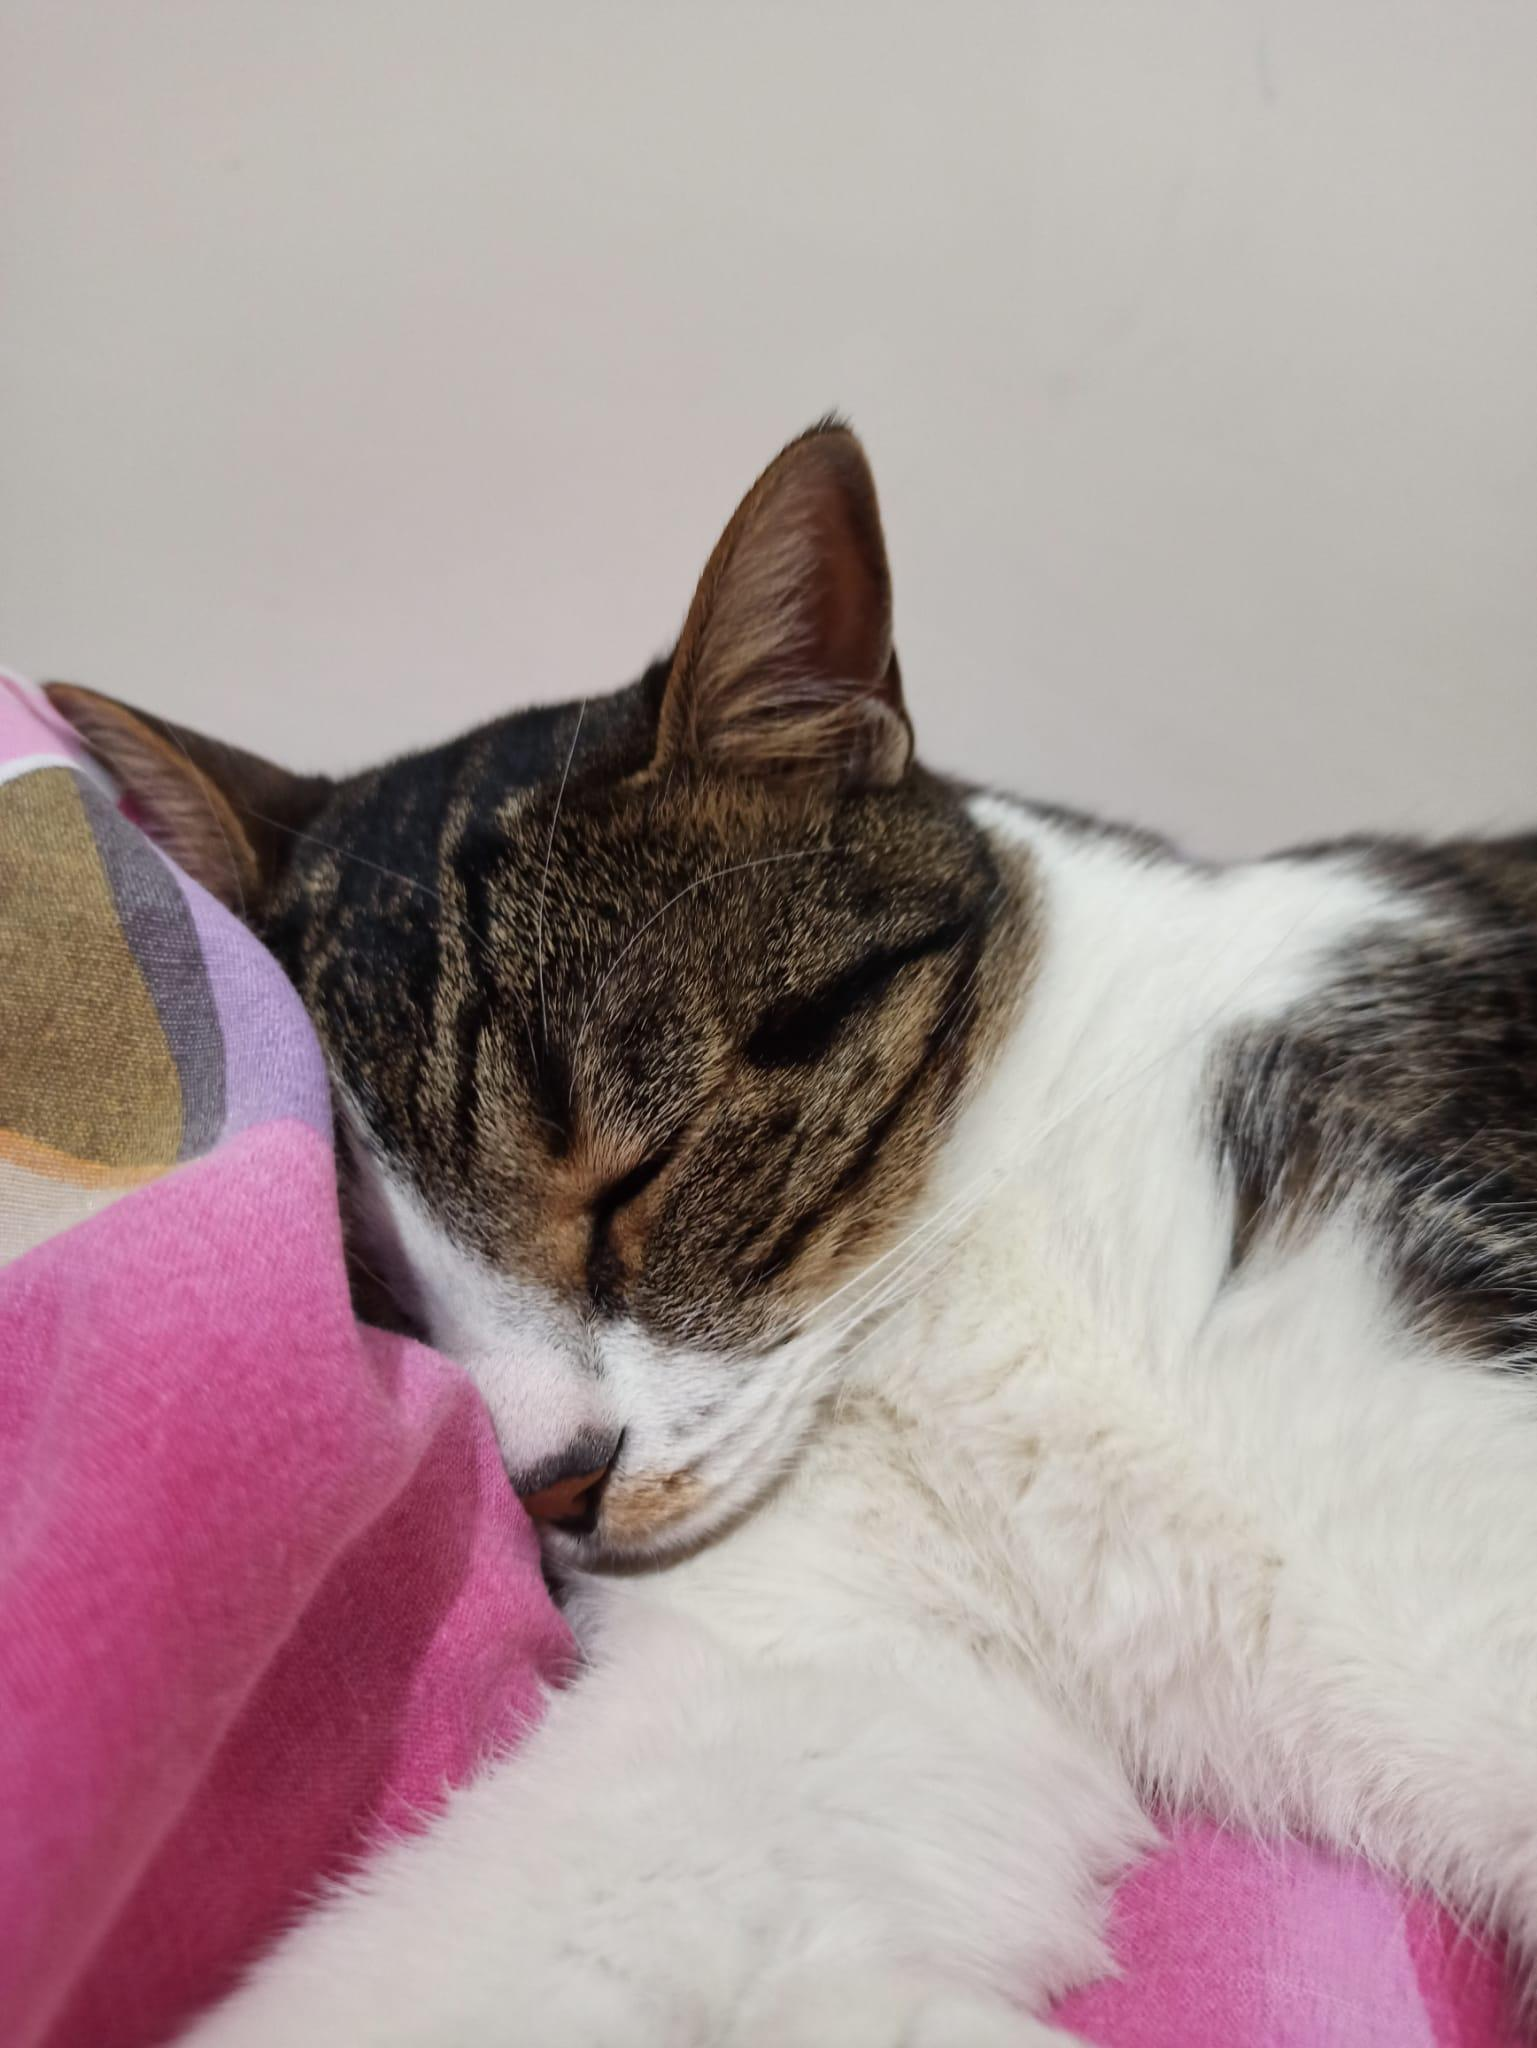kedo: (53, 428, 1537, 2033)
